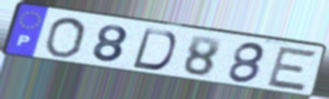8: (181, 35, 222, 78), (226, 40, 265, 85), (91, 24, 130, 64)
D: (129, 27, 178, 72)
E: (264, 45, 320, 93)
O: (41, 17, 88, 59)
